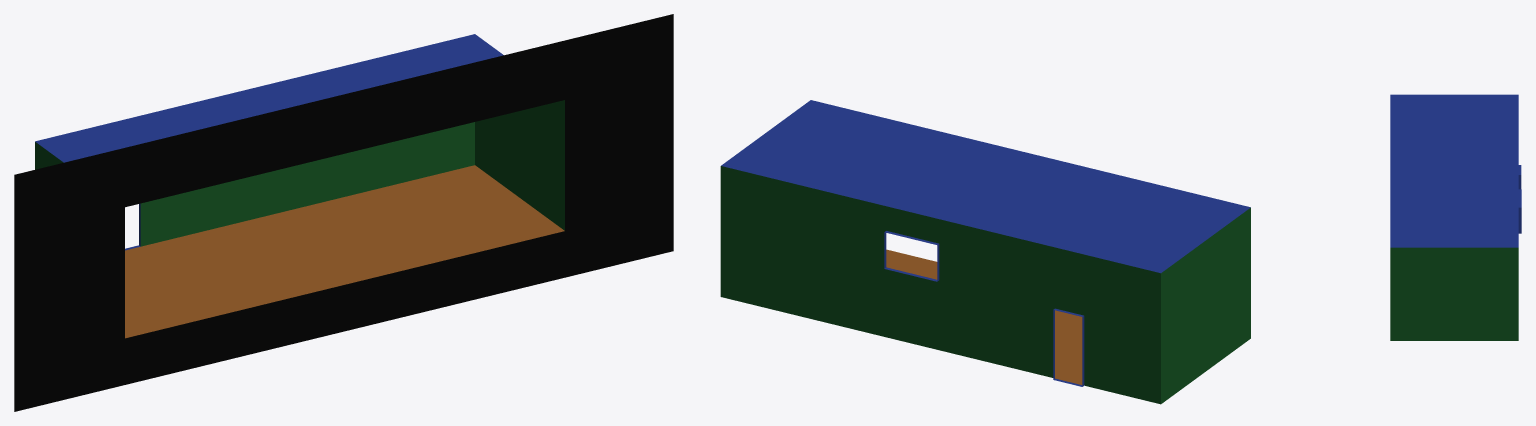
File: makuuhuone with holes.fbx
3 views of the same model, side by side, from view 1: azimuth 30°, elevation 25°; view 2: azimuth 150°, elevation 25°; view 3: azimuth 270°, elevation 25° (orthographic). The views are drawn at different scales.
Visible parts, largest first — view 1: Cube.002; view 2: Cube.002; view 3: Cube.002.
Part boxes in pixels (box(x1,y1,x2,y2)): Cube.002: box(14, 14, 673, 411); Cube.002: box(720, 100, 1250, 404); Cube.002: box(1390, 94, 1521, 340).
Bounding box in the file's own units: 6592 × 2267 × 1597.
